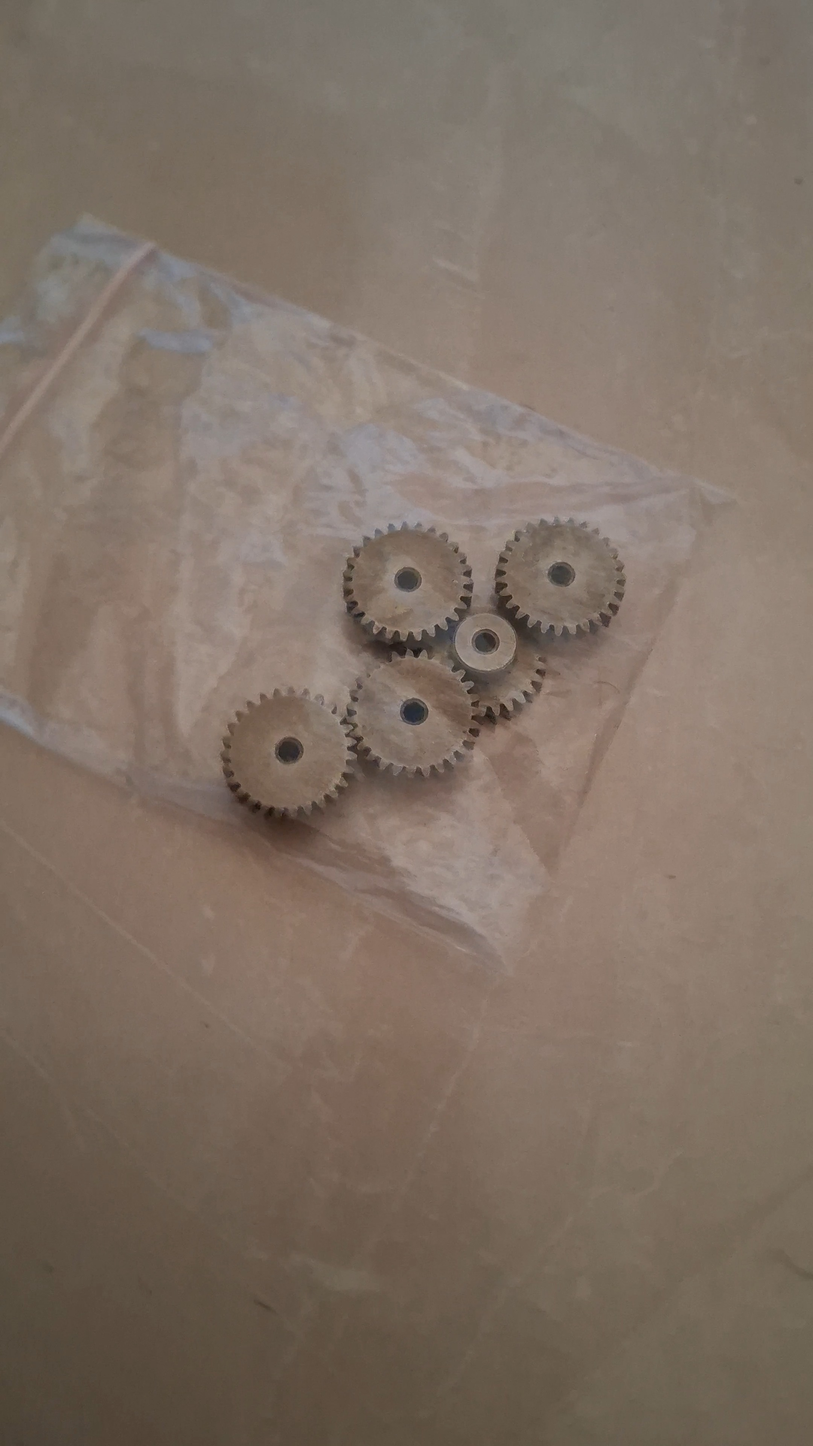spur gear: (221, 688, 353, 817), (348, 651, 478, 776), (343, 523, 472, 647), (495, 518, 625, 635), (450, 612, 545, 721)
